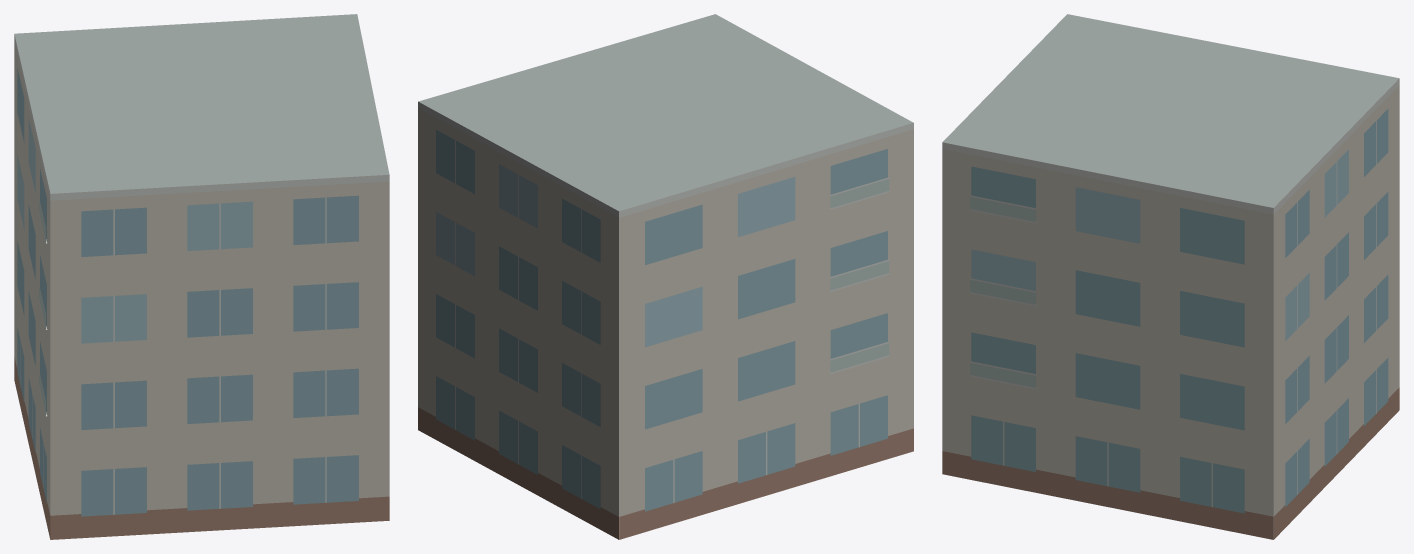
The model's file is survey-upis-32634262.glb.
3 views of the same model, side by side, from view 1: azimuth 30°, elevation 25°; view 2: azimuth 150°, elevation 25°; view 3: azimuth 270°, elevation 25° (orthographic). The views are drawn at different scales.
Parts seen in each view (by area): view 1: survey-upis-32634262.tmp; view 2: survey-upis-32634262.tmp; view 3: survey-upis-32634262.tmp.
Part boxes in pixels (left/top/right/bottom): survey-upis-32634262.tmp: left=14, top=14, right=389, bottom=539; survey-upis-32634262.tmp: left=418, top=14, right=913, bottom=539; survey-upis-32634262.tmp: left=942, top=14, right=1399, bottom=539.
Bounding box in the file's own units: 15.68 × 12.5 × 15.62.
